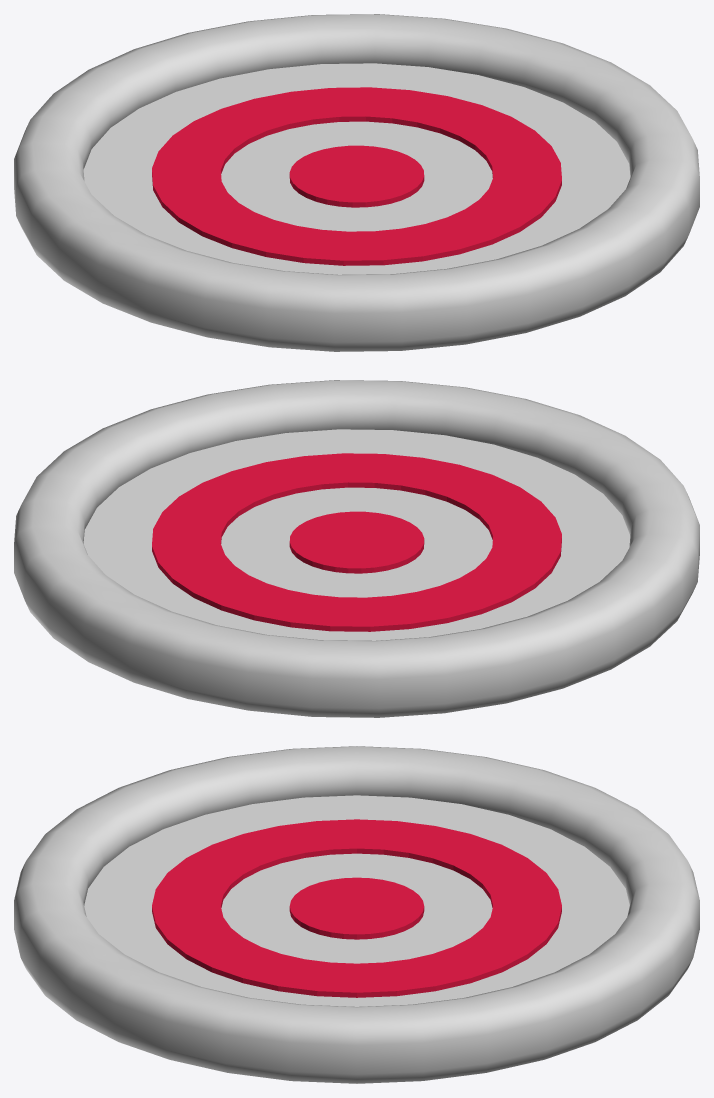
Rendered from target.fbx.
3 views of the same model, one above another, from view 1: azimuth 30°, elevation 25°; view 2: azimuth 150°, elevation 25°; view 3: azimuth 270°, elevation 25° (orthographic).
Parts seen in each view (by area): view 1: Target; view 2: Target; view 3: Target.
Part boxes in pixels (<box>): Target: <box>14,14,699,351</box>; Target: <box>14,380,699,717</box>; Target: <box>14,746,699,1083</box>.
Bounding box in the file's own units: 200 × 20 × 200.
